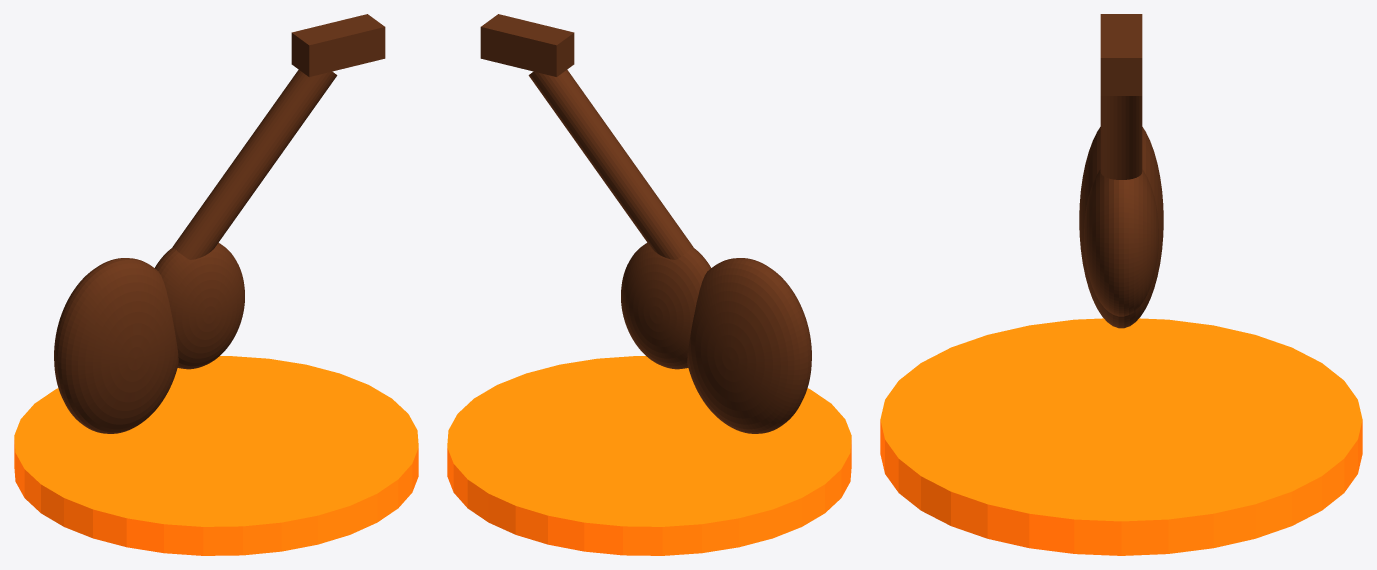
Rendered from spanish_spanish_guitar.dae.
3 views of the same model, side by side, from view 1: azimuth 30°, elevation 25°; view 2: azimuth 150°, elevation 25°; view 3: azimuth 270°, elevation 25° (orthographic). The views are drawn at different scales.
Visible parts, largest first — view 1: 11_03_Popular_Spanish_Spanish_Guitar_ROOT_base, 11_03_Popular_Spanish_Spanish_Guitar_part_01, 11_03_Popular_Spanish_Spanish_Guitar_part_03, 11_03_Popular_Spanish_Spanish_Guitar_part_02, 11_03_Popular_Spanish_Spanish_Guitar_part_04; view 2: 11_03_Popular_Spanish_Spanish_Guitar_ROOT_base, 11_03_Popular_Spanish_Spanish_Guitar_part_01, 11_03_Popular_Spanish_Spanish_Guitar_part_03, 11_03_Popular_Spanish_Spanish_Guitar_part_02, 11_03_Popular_Spanish_Spanish_Guitar_part_04; view 3: 11_03_Popular_Spanish_Spanish_Guitar_ROOT_base, 11_03_Popular_Spanish_Spanish_Guitar_part_02, 11_03_Popular_Spanish_Spanish_Guitar_part_03, 11_03_Popular_Spanish_Spanish_Guitar_part_04, 11_03_Popular_Spanish_Spanish_Guitar_part_01.
Part boxes in pixels (x1,y1,x2,y2): 11_03_Popular_Spanish_Spanish_Guitar_ROOT_base: (14, 356, 418, 555); 11_03_Popular_Spanish_Spanish_Guitar_part_01: (54, 258, 178, 433); 11_03_Popular_Spanish_Spanish_Guitar_part_03: (172, 69, 337, 259); 11_03_Popular_Spanish_Spanish_Guitar_part_02: (155, 242, 244, 369); 11_03_Popular_Spanish_Spanish_Guitar_part_04: (291, 14, 385, 76); 11_03_Popular_Spanish_Spanish_Guitar_ROOT_base: (447, 356, 851, 555); 11_03_Popular_Spanish_Spanish_Guitar_part_01: (687, 258, 811, 433); 11_03_Popular_Spanish_Spanish_Guitar_part_03: (528, 69, 693, 259); 11_03_Popular_Spanish_Spanish_Guitar_part_02: (621, 242, 710, 369); 11_03_Popular_Spanish_Spanish_Guitar_part_04: (480, 14, 574, 76); 11_03_Popular_Spanish_Spanish_Guitar_ROOT_base: (880, 318, 1362, 555); 11_03_Popular_Spanish_Spanish_Guitar_part_02: (1084, 169, 1158, 316); 11_03_Popular_Spanish_Spanish_Guitar_part_03: (1100, 96, 1142, 179); 11_03_Popular_Spanish_Spanish_Guitar_part_04: (1100, 14, 1142, 95); 11_03_Popular_Spanish_Spanish_Guitar_part_01: (1079, 127, 1163, 328).
Bounding box in the file's own units: 0.76 × 0.85 × 0.76.
